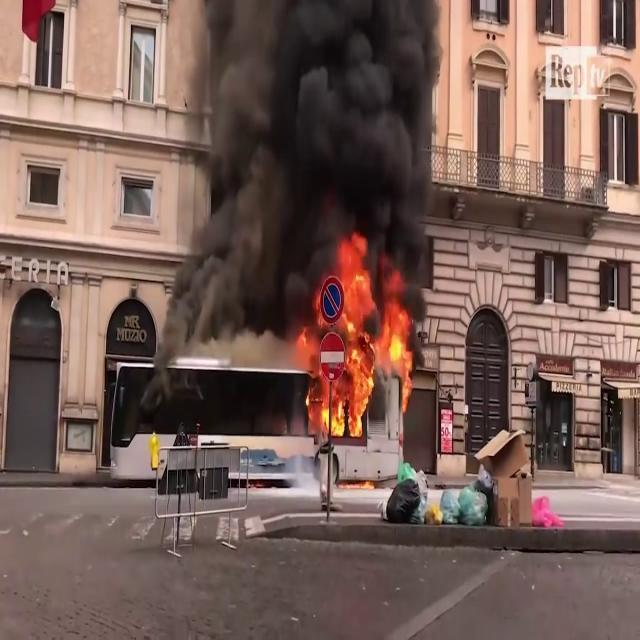Fire: (306, 238, 416, 438)
Smoke: (160, 0, 450, 300)
